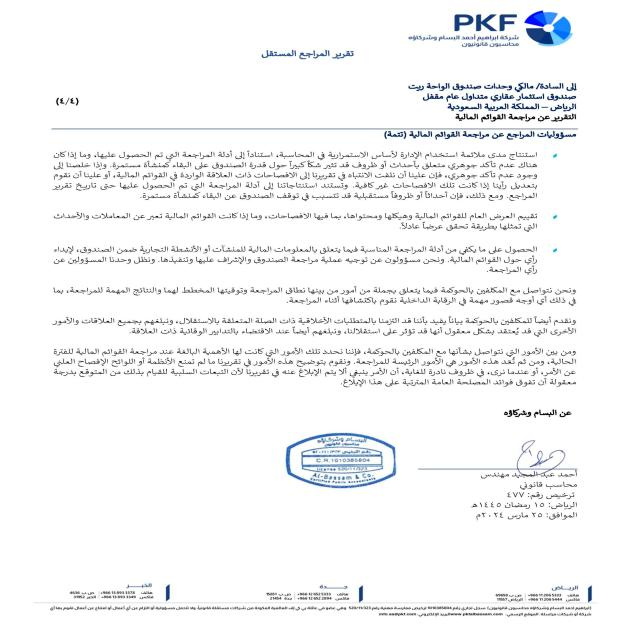auditor_report: (375, 130, 577, 148), (253, 43, 361, 65)
